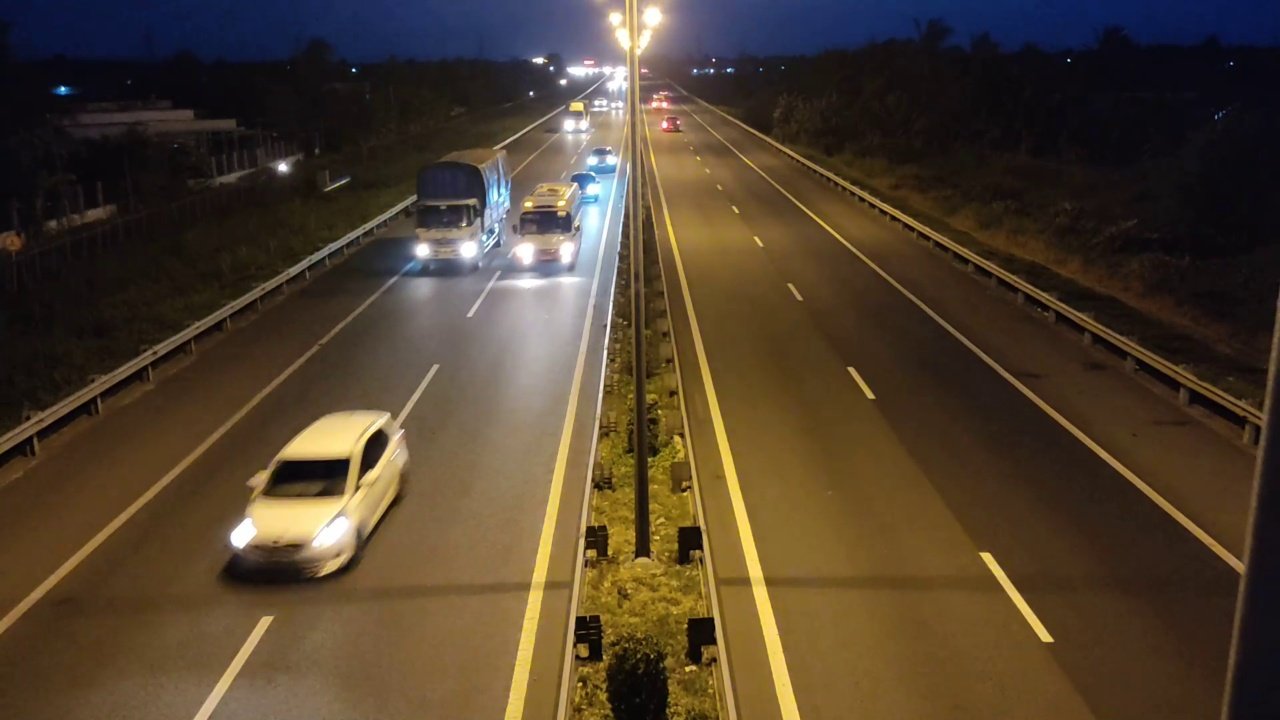bus: (507, 171, 587, 275)
car: (225, 409, 411, 583), (585, 147, 619, 173)
truck: (413, 146, 514, 275)
